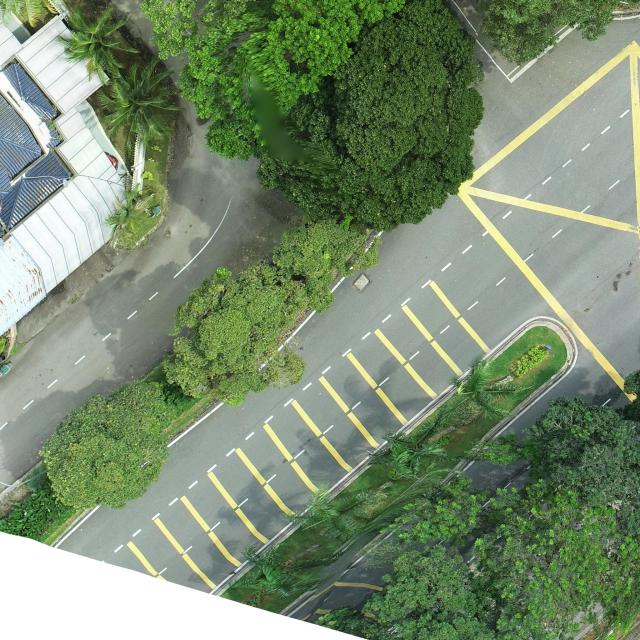Tree: (257, 0, 486, 234), (139, 0, 407, 159), (473, 473, 640, 640), (162, 258, 309, 407), (356, 539, 554, 640), (38, 382, 174, 511), (522, 394, 640, 538), (272, 219, 382, 313), (471, 0, 619, 68), (97, 57, 184, 155), (229, 540, 346, 600), (436, 358, 533, 428), (58, 7, 139, 83), (284, 483, 385, 542), (367, 412, 448, 481), (104, 182, 150, 250)
